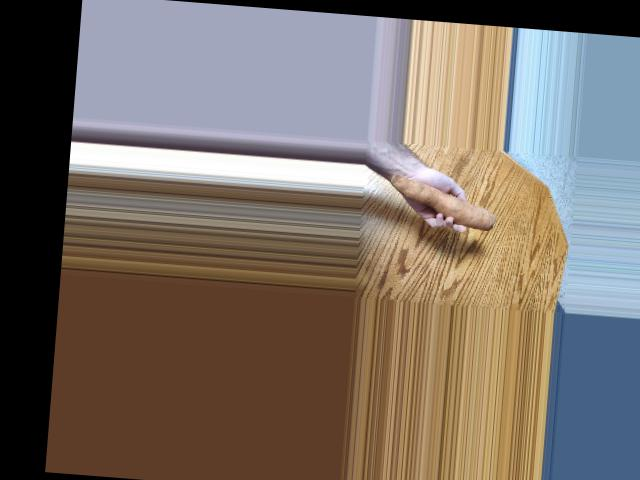sweet_potato: (389, 173, 499, 233)
